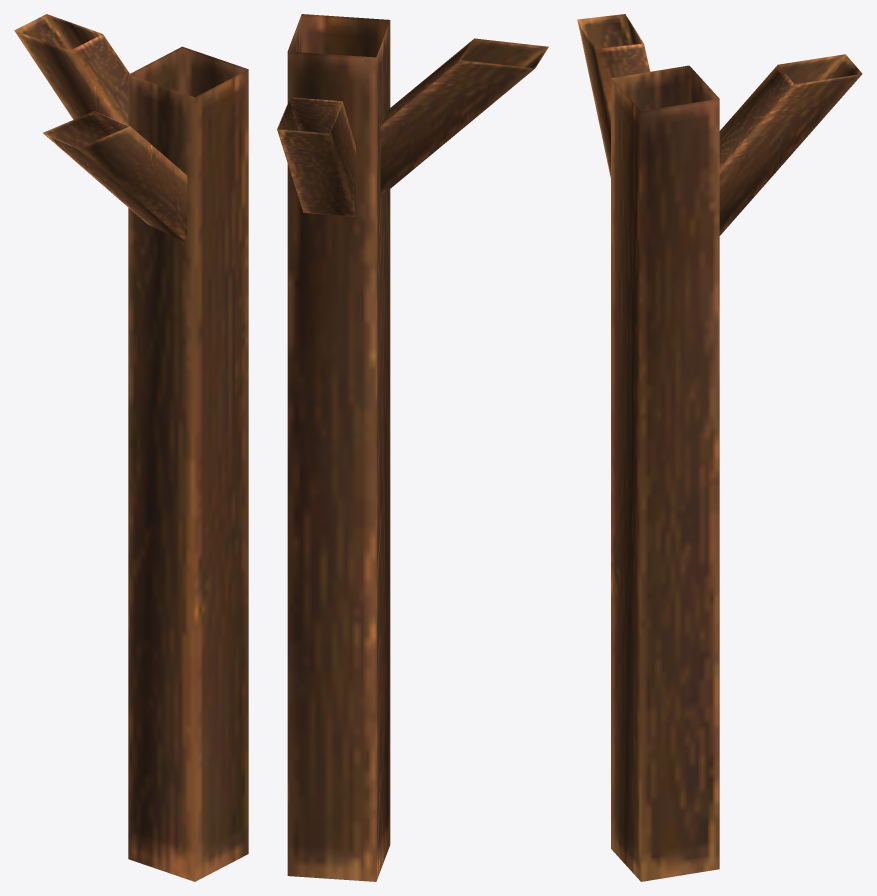
Rendered from SWORDLIGHT20_JAILPLATSUPPORT62.fbx.
The picture shows the model from 3 angles, left to right: view 1: azimuth 30°, elevation 25°; view 2: azimuth 150°, elevation 25°; view 3: azimuth 270°, elevation 25°; orthographic projection. The views are drawn at different scales.
Parts seen in each view (by area): view 1: SWORDLIGHT20_JAILPLATSUPPORT62; view 2: SWORDLIGHT20_JAILPLATSUPPORT62; view 3: SWORDLIGHT20_JAILPLATSUPPORT62.
Boxes of the visible parts, x1,y1,x2,y2 form: SWORDLIGHT20_JAILPLATSUPPORT62: (14, 14, 248, 881); SWORDLIGHT20_JAILPLATSUPPORT62: (277, 14, 548, 881); SWORDLIGHT20_JAILPLATSUPPORT62: (577, 14, 862, 881).
Size of the model in its own units: 11567 by 40476 by 13583.
Materials: 1 (1 with a texture image).
